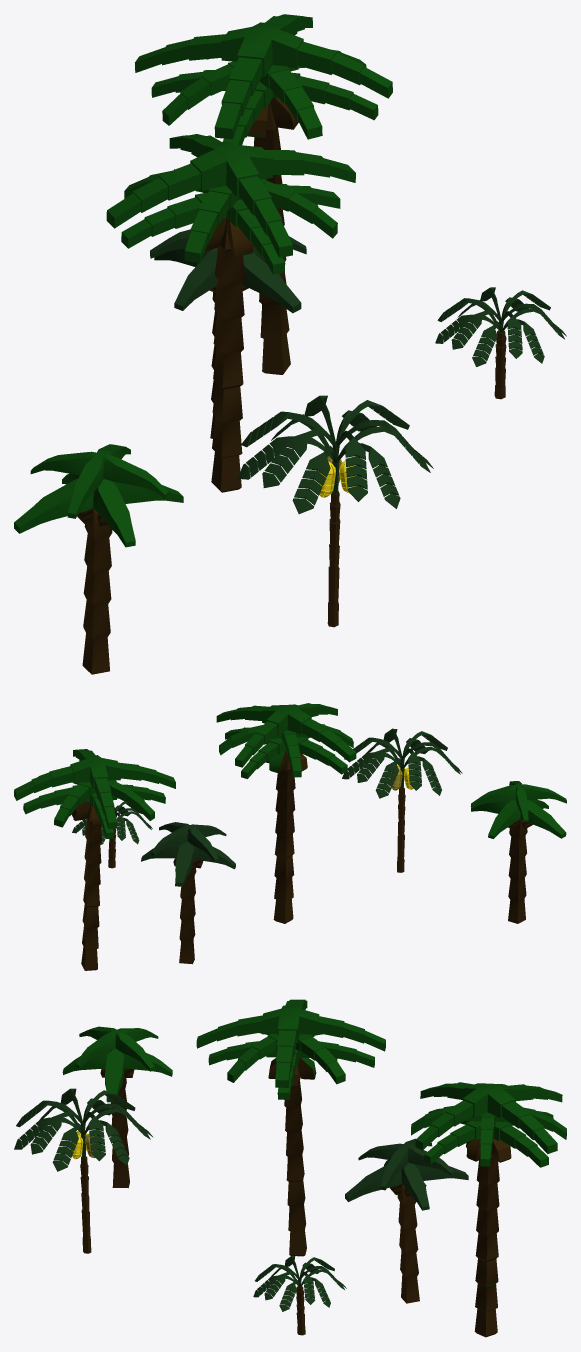
Rendered from Kleine_Pflanzengruppe.fbx.
3 renders of one model, top to bottom at view 1: azimuth 30°, elevation 25°; view 2: azimuth 150°, elevation 25°; view 3: azimuth 270°, elevation 25°, orthographic. The views are drawn at different scales.
Visible parts, largest first — view 1: Palme, Palme_1, Palme_4, Staude_groß, Staude_klein, Palme_11; view 2: Palme, Palme_1, Palme_4, Staude_groß, Palme_11, Staude_klein; view 3: Palme_1, Palme, Staude_groß, Palme_11, Palme_4, Staude_klein.
Boxes of the visible parts, x1=… form: Palme: x1=106, y1=134, x2=355, y2=492; Palme_1: x1=135, y1=14, x2=392, y2=374; Palme_4: x1=14, y1=444, x2=183, y2=674; Staude_groß: x1=237, y1=395, x2=433, y2=627; Staude_klein: x1=435, y1=287, x2=566, y2=399; Palme_11: x1=150, y1=229, x2=306, y2=438; Palme: x1=216, y1=703, x2=356, y2=923; Palme_1: x1=14, y1=749, x2=175, y2=970; Palme_4: x1=470, y1=781, x2=566, y2=923; Staude_groß: x1=342, y1=728, x2=462, y2=872; Palme_11: x1=141, y1=822, x2=235, y2=964; Staude_klein: x1=72, y1=801, x2=152, y2=868; Palme_1: x1=411, y1=1082, x2=566, y2=1337; Palme: x1=196, y1=999, x2=385, y2=1256; Staude_groß: x1=14, y1=1088, x2=153, y2=1253; Palme_11: x1=345, y1=1138, x2=468, y2=1303; Palme_4: x1=62, y1=1026, x2=172, y2=1188; Staude_klein: x1=253, y1=1256, x2=346, y2=1335.
Size of the model in its own units: 3061 by 1617 by 3100.
